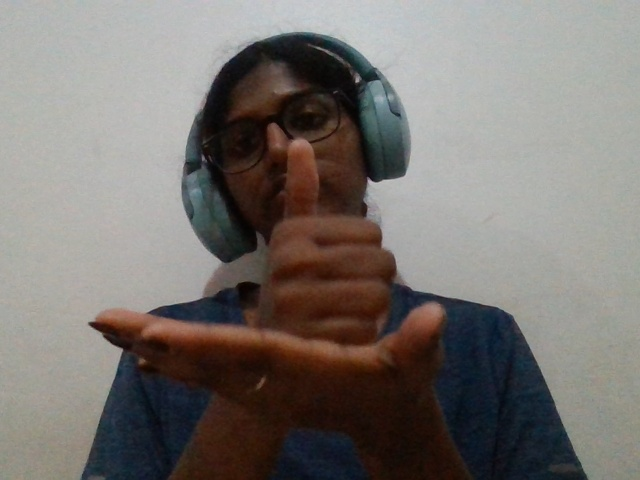Help: (49, 125, 505, 463)
